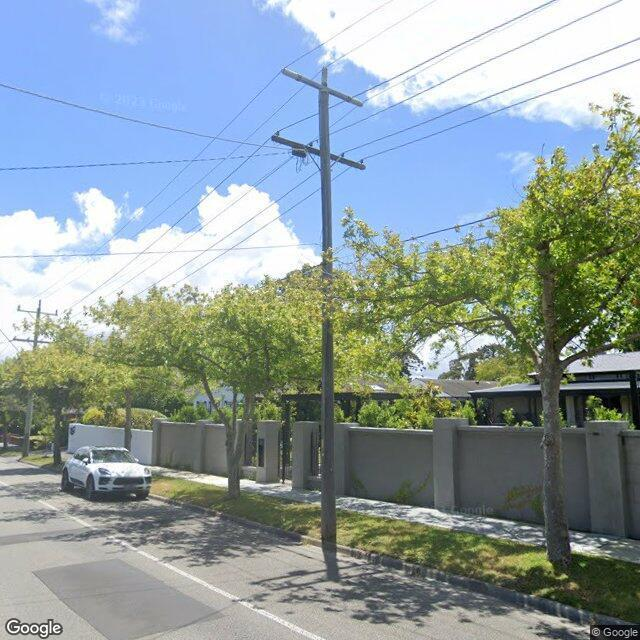HV-transmission: (281, 67, 363, 107), (18, 299, 57, 314)
crossarm: (272, 136, 365, 169), (296, 74, 352, 102), (17, 310, 58, 316), (13, 338, 49, 343)
timber-pole: (319, 90, 336, 539), (23, 308, 40, 457)
